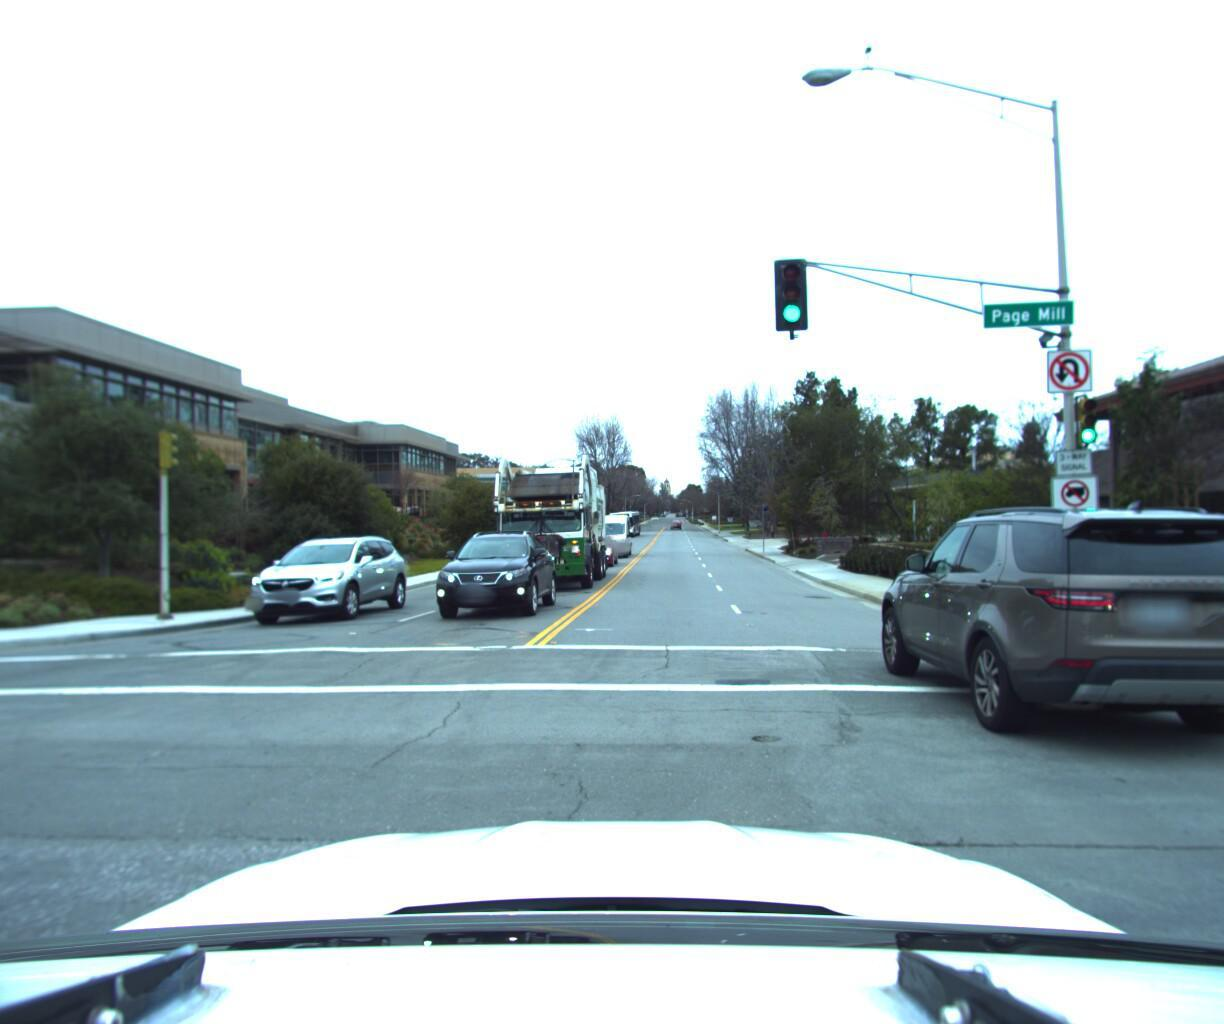car: (863, 486, 1224, 772), (230, 531, 415, 630), (426, 526, 560, 626), (587, 511, 631, 557), (570, 530, 617, 568)
truck: (485, 447, 614, 598)
